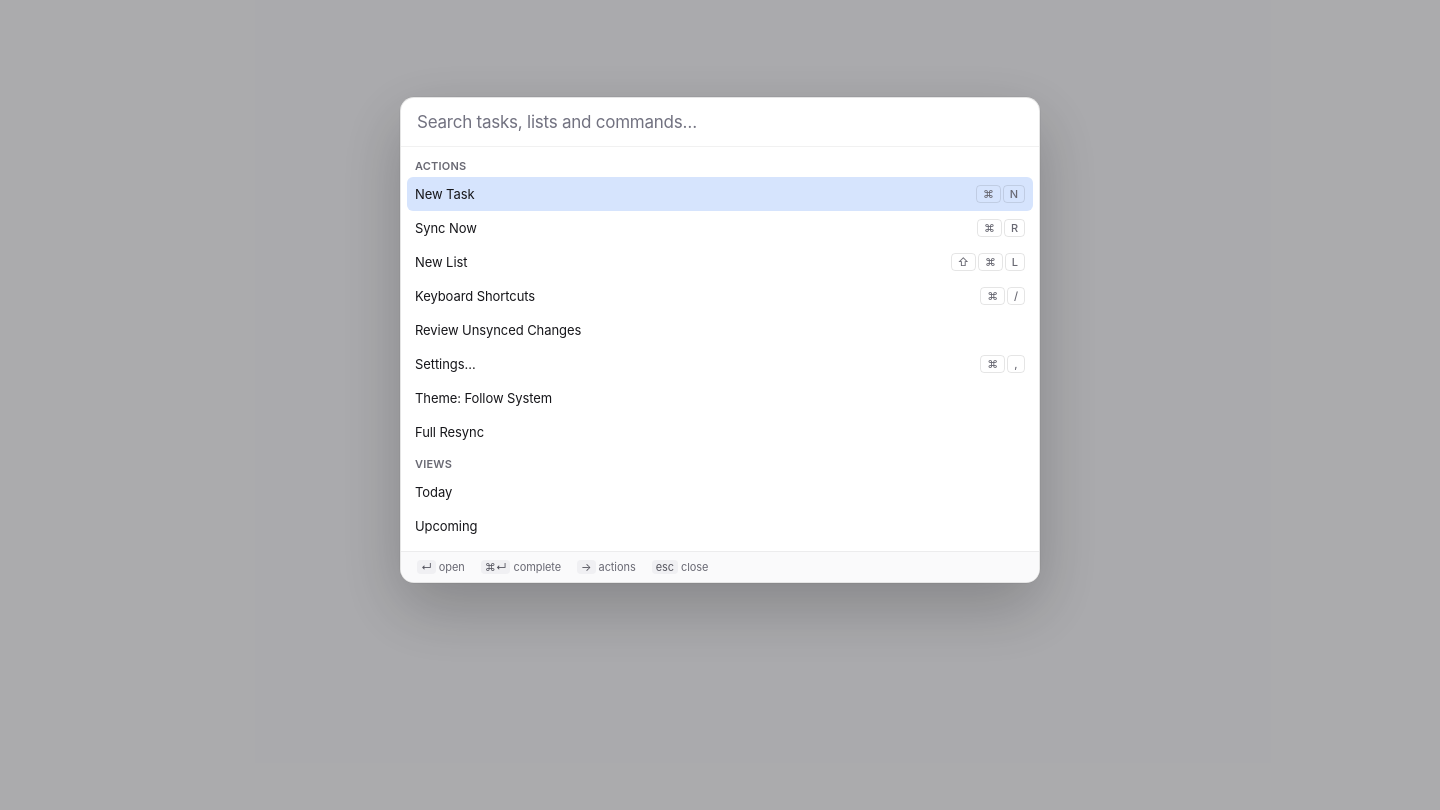
Test: CommandPalette › # restricts the palette to lists and views
In the dropdown: (720, 122) [417,106,1023,138], type "#work"
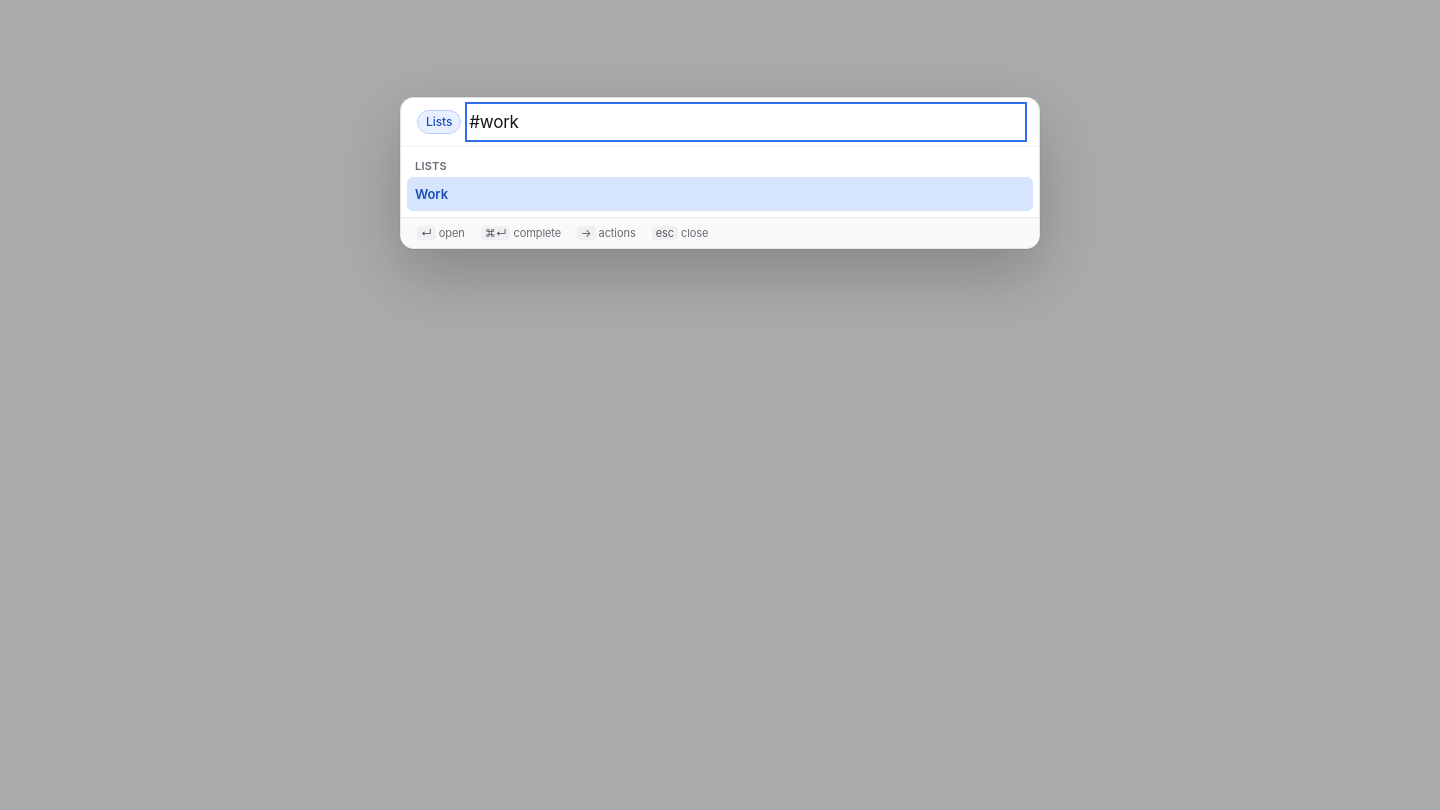
Expected: the text "Actions" is not shown
Now the text "Lists" is shown, box [417,110,461,134]
